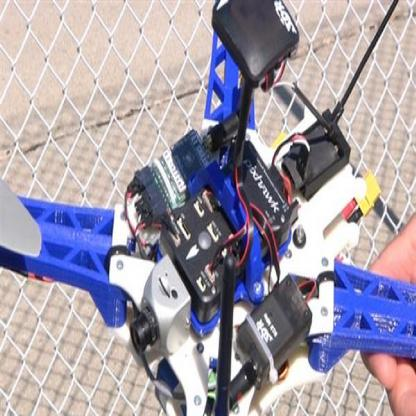drone: (0, 3, 416, 413)
